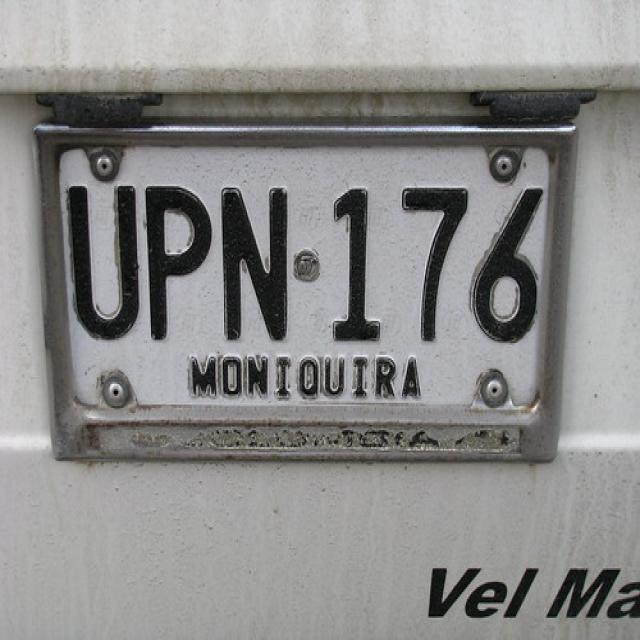placas: (53, 141, 566, 355)
